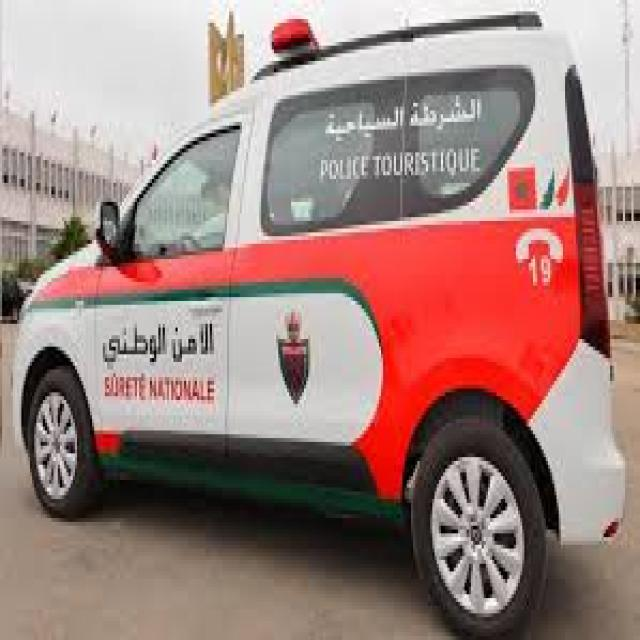police: (24, 24, 612, 631)
